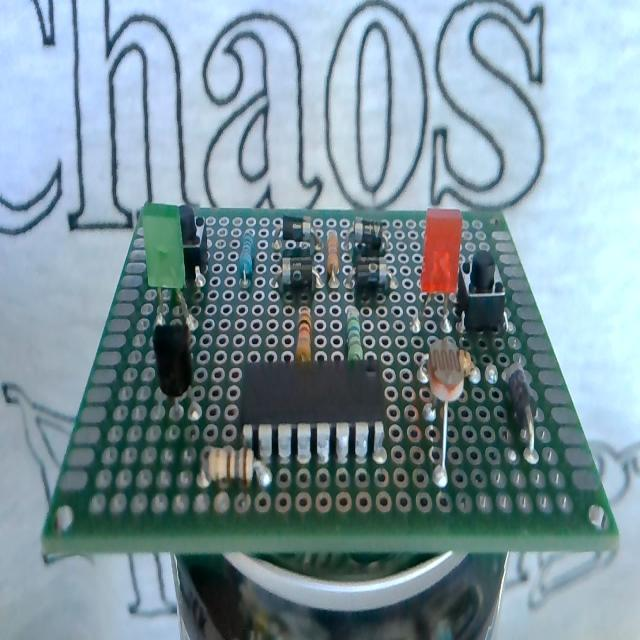IC: (234, 356, 384, 464)
cds: (424, 337, 468, 486)
diode: (502, 359, 538, 465), (350, 218, 386, 256), (354, 260, 390, 296), (281, 214, 317, 247), (282, 255, 314, 288)
led: (143, 204, 188, 335), (418, 208, 462, 334)
resistor: (201, 444, 267, 490), (296, 306, 312, 366), (238, 232, 255, 284), (346, 307, 362, 362), (326, 231, 339, 283)
switch: (457, 250, 505, 334), (178, 204, 208, 282)
transistor: (153, 320, 194, 400)
